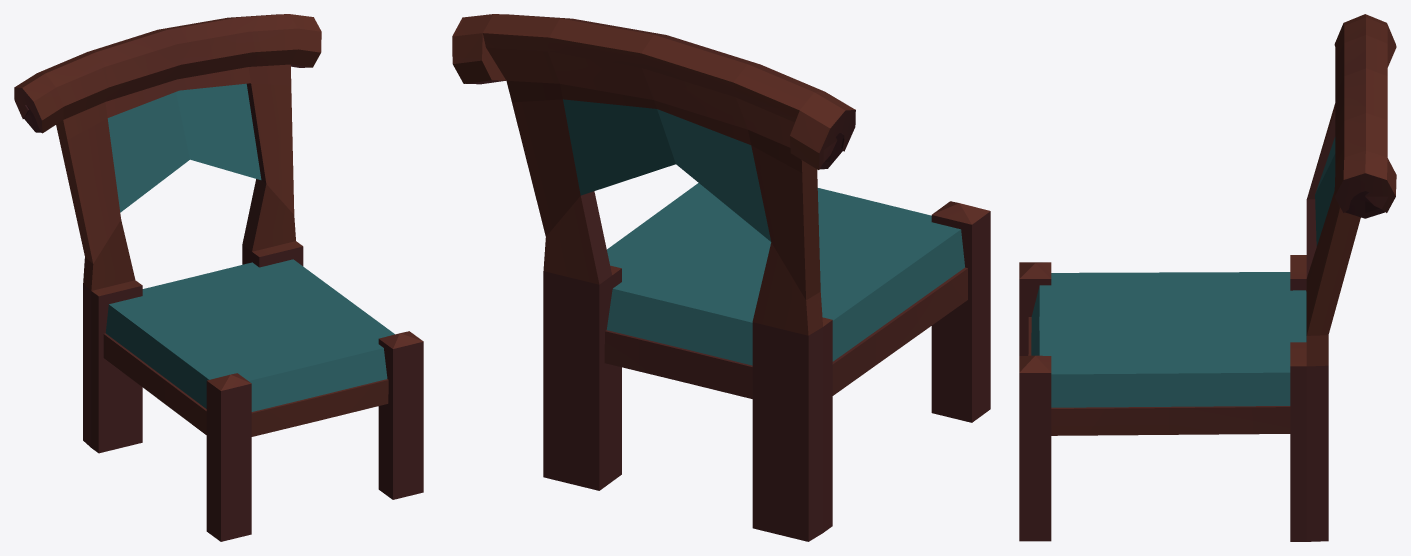
File: Furniture_Chair01.fbx
The picture shows the model from 3 angles, left to right: view 1: azimuth 30°, elevation 25°; view 2: azimuth 150°, elevation 25°; view 3: azimuth 270°, elevation 25°; orthographic projection. The views are drawn at different scales.
Parts seen in each view (by area): view 1: Cube.354; view 2: Cube.354; view 3: Cube.354.
Part boxes in pixels (box(x1,y1,x2,y2)): Cube.354: box(14, 14, 423, 541); Cube.354: box(452, 14, 990, 541); Cube.354: box(1019, 14, 1396, 541).
Size of the model in its own units: 37.83 by 46.36 by 37.93.
